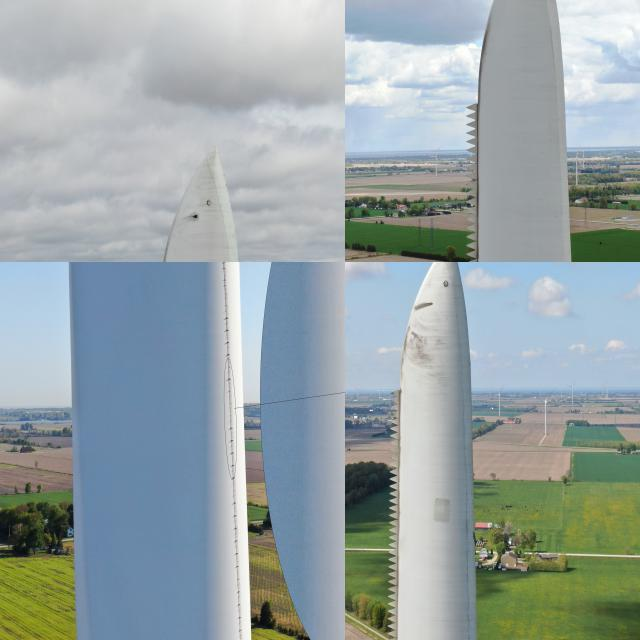damage: (226, 382, 236, 425), (412, 298, 434, 312), (190, 211, 200, 222)
